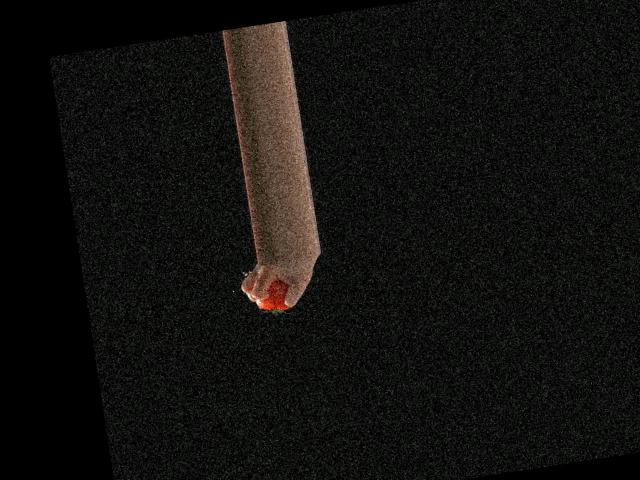tomato: (253, 278, 292, 313)
